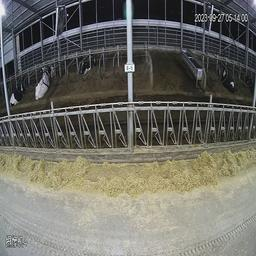cow: (220, 66, 237, 95), (35, 72, 50, 100), (9, 84, 26, 106), (80, 55, 95, 74)
